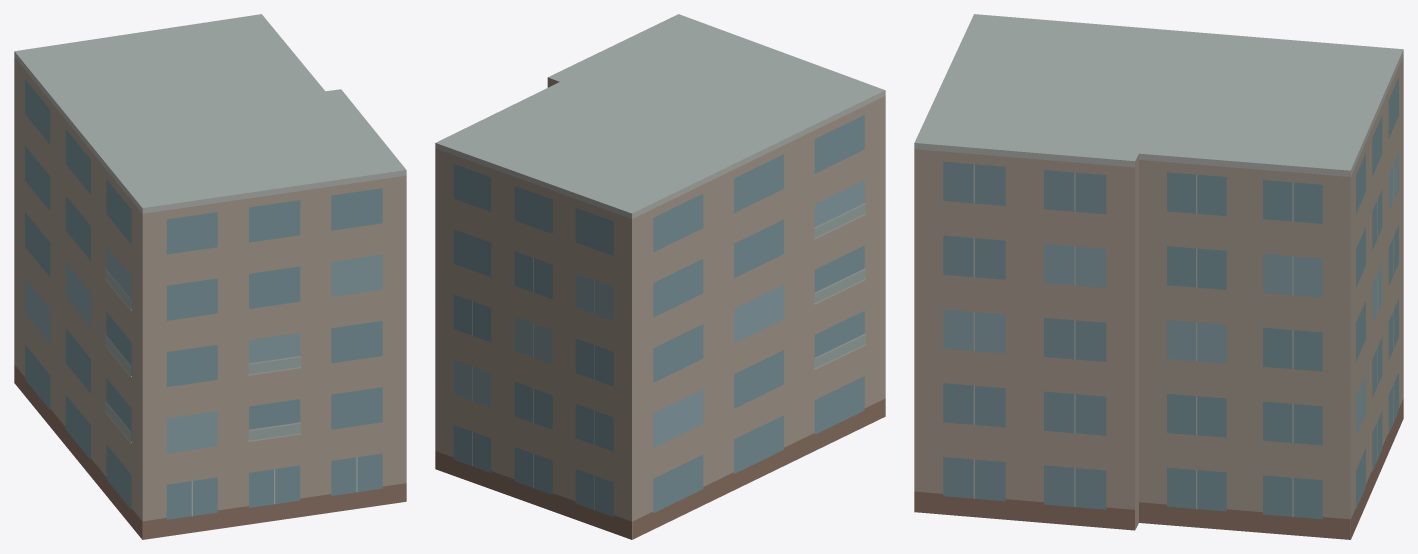
File: survey-upis-32719657.glb
3 renders of one model, left to right at view 1: azimuth 30°, elevation 25°; view 2: azimuth 150°, elevation 25°; view 3: azimuth 270°, elevation 25°, orthographic. The views are drawn at different scales.
Parts seen in each view (by area): view 1: survey-upis-32719657.tmp; view 2: survey-upis-32719657.tmp; view 3: survey-upis-32719657.tmp.
Boxes of the visible parts, box(x1,y1,x2,y2) form: survey-upis-32719657.tmp: box(14, 14, 406, 539); survey-upis-32719657.tmp: box(435, 14, 885, 539); survey-upis-32719657.tmp: box(914, 14, 1403, 539).
Size of the model in its own units: 13.11 by 14.4 by 17.3.
